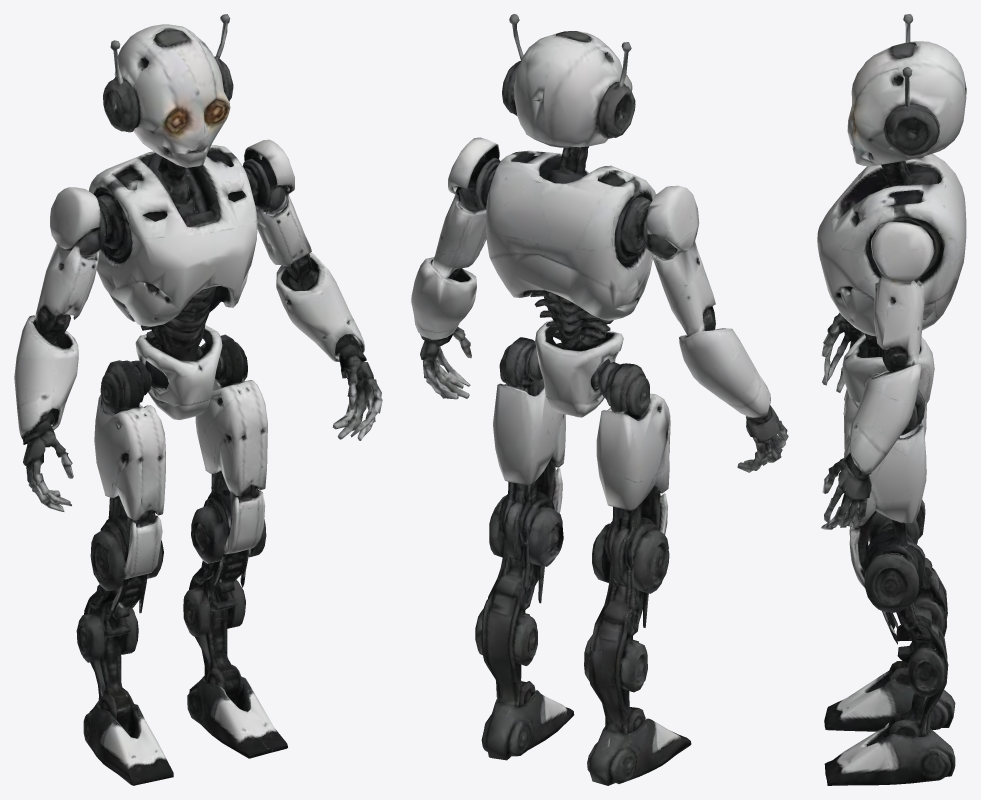
File: robot-meshy7.glb
3 renders of one model, left to right at view 1: azimuth 30°, elevation 25°; view 2: azimuth 150°, elevation 25°; view 3: azimuth 270°, elevation 25°, orthographic. The views are drawn at different scales.
Parts seen in each view (by area): view 1: mesh_node; view 2: mesh_node; view 3: mesh_node.
Boxes of the visible parts, <box> form: mesh_node: <box>14,14,382,785</box>; mesh_node: <box>411,14,788,785</box>; mesh_node: <box>817,14,966,785</box>.
Bounding box in the file's own units: 0.9756 × 1.9 × 0.3638.
1 material, 1 textured.
